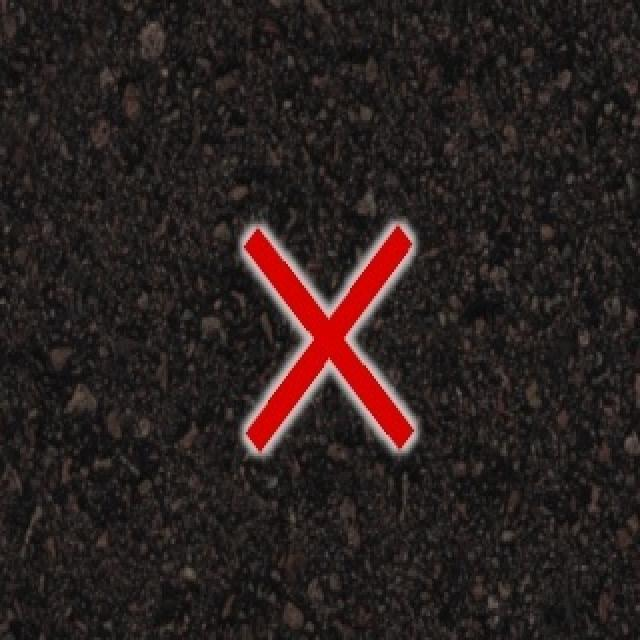x_marker: (243, 226, 413, 450)
